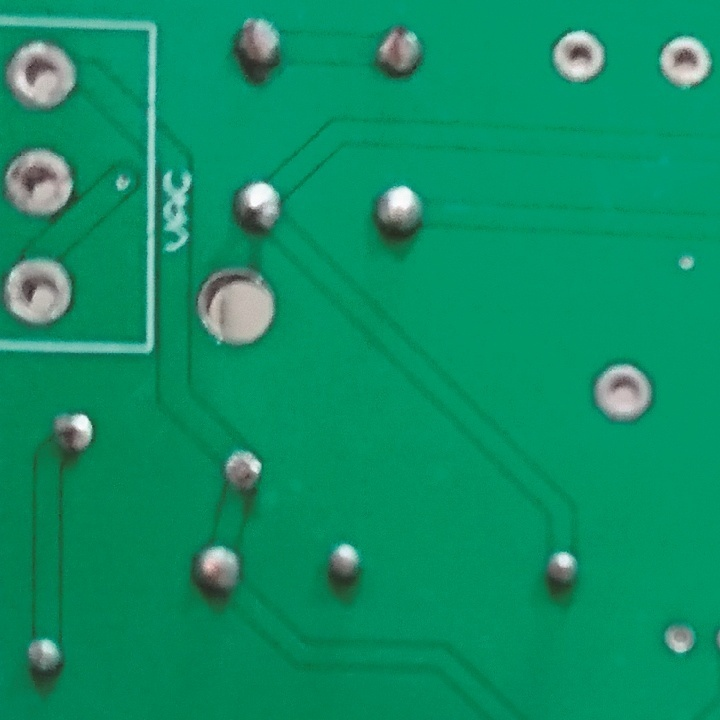F: (2, 256, 79, 332), (3, 39, 81, 109), (3, 147, 77, 220), (590, 361, 658, 423), (547, 29, 608, 86), (656, 34, 712, 91), (659, 619, 699, 658)
